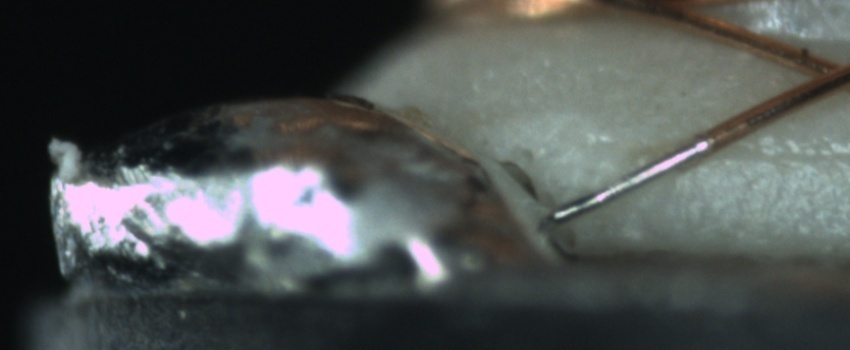CL: (795, 45, 850, 100)
DL: (713, 126, 848, 183)
TS: (550, 135, 715, 225)
